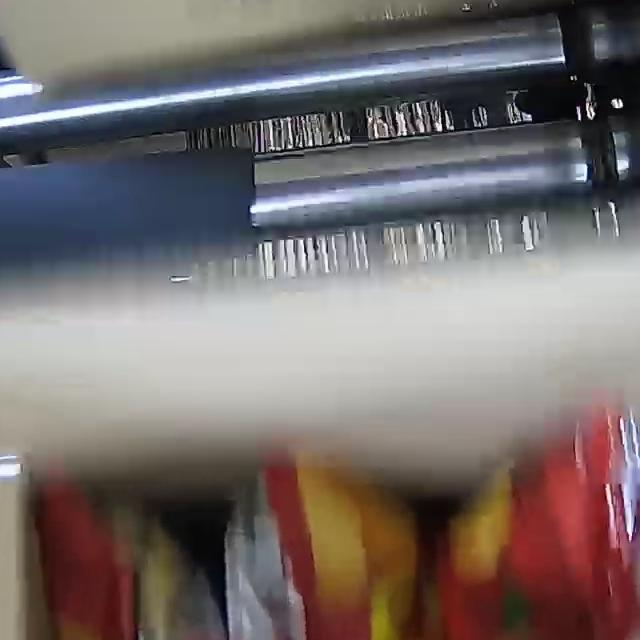masala: (30, 393, 640, 640)
